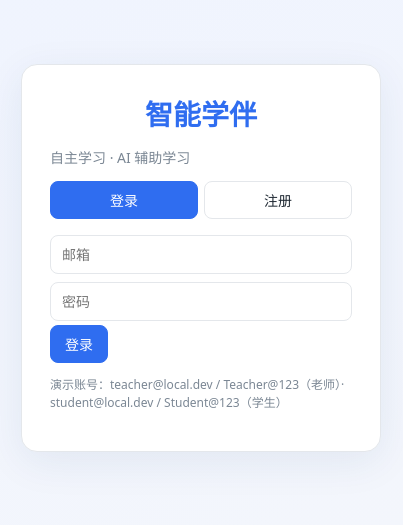
Test: Login › returns from register mode to login mode
This screenshot has width=403, height=525.
Step 1. Click the button "注册" → (278, 200), box [204,181,352,219]
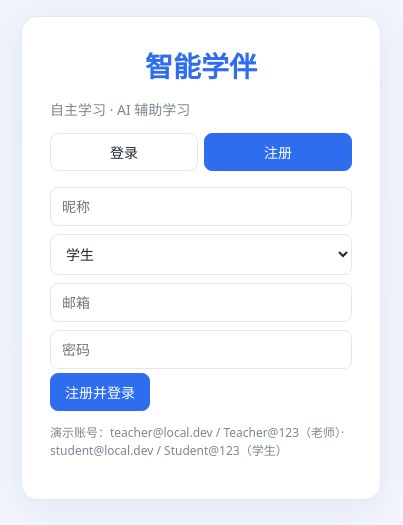
Now the field with placeholder "昵称" is shown, box [50,187,352,226]
Step 2. Click the button "登录" → (124, 152), box [50,133,198,171]
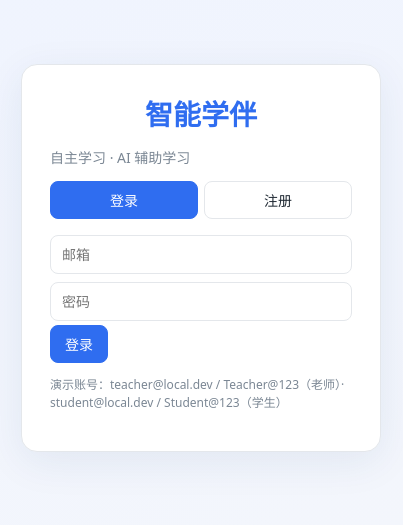
Now the field with placeholder "昵称" is gone
